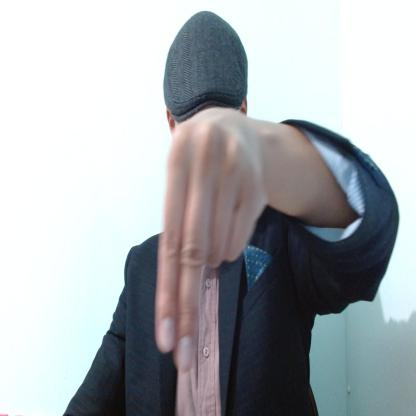N: (156, 108, 266, 369)
